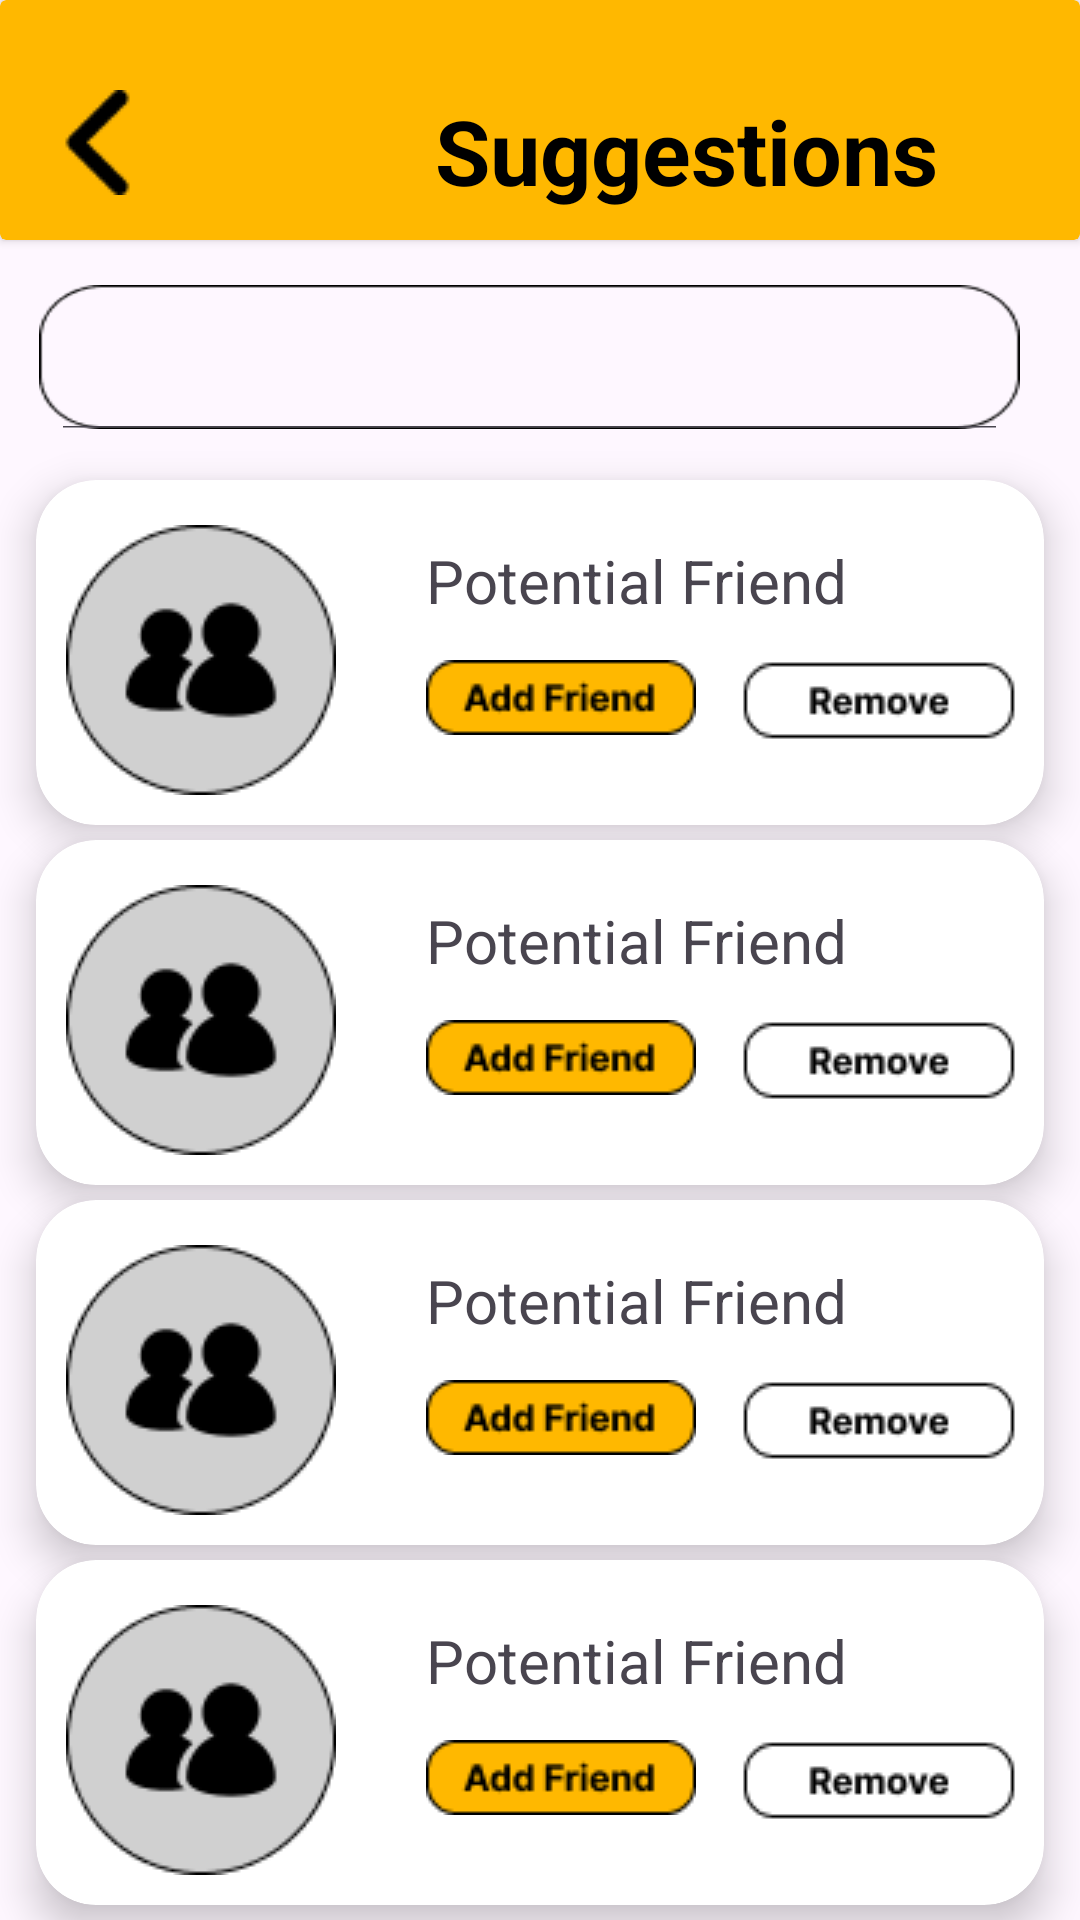

Icon bounding boxes for this 1080*1920 phone screenshot, format (x1, y1, x2, y2):
backicon: (65, 90, 130, 195)
